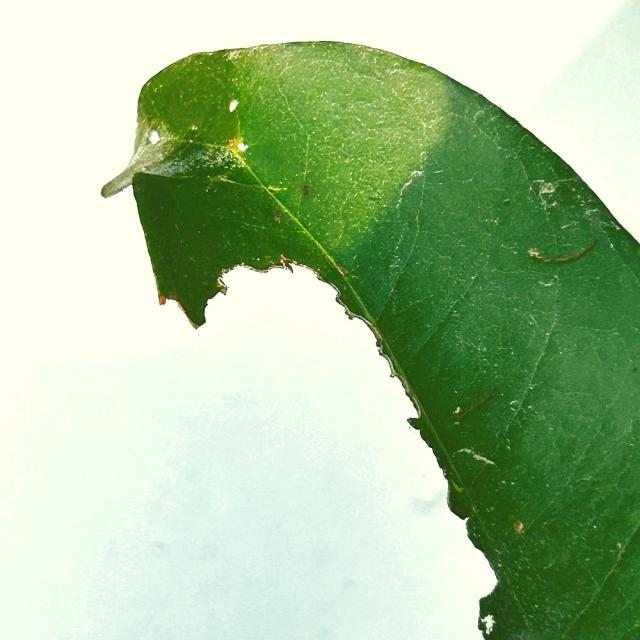Deficiency Leaf: (163, 269, 494, 639)
Lychee: (102, 42, 639, 639)
